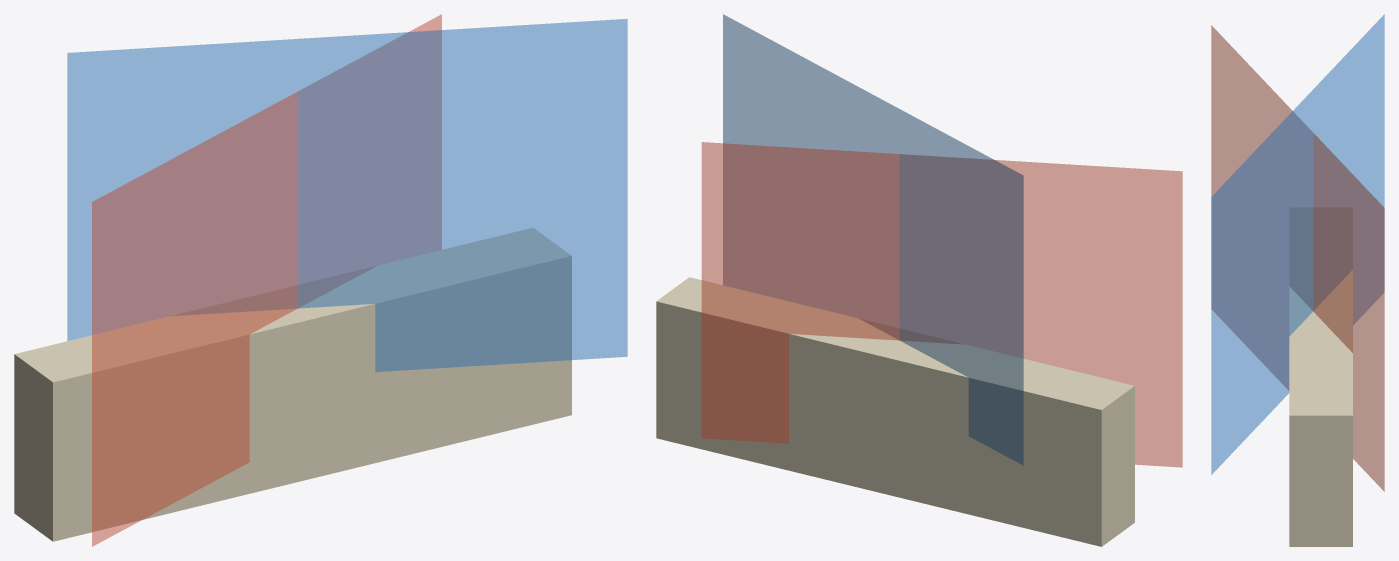
File: BlendLayers.glb
The picture shows the model from 3 angles, left to right: view 1: azimuth 30°, elevation 25°; view 2: azimuth 150°, elevation 25°; view 3: azimuth 270°, elevation 25°; orthographic projection. The views are drawn at different scales.
Visible parts, largest first — view 1: Blue, Limestone, Coral; view 2: Coral, Limestone, Blue; view 3: Blue, Coral, Limestone.
Boxes of the visible parts, x1,y1,x2,y2 form: Blue: (67,19,627,371); Limestone: (14,228,571,541); Coral: (92,14,441,546); Coral: (701,142,1182,467); Limestone: (656,277,1134,546); Blue: (723,14,1023,465); Blue: (1211,14,1384,474); Coral: (1211,25,1384,491); Limestone: (1289,207,1352,546).
Bounding box in the file's own units: 3.2 × 2.45 × 1.09.
